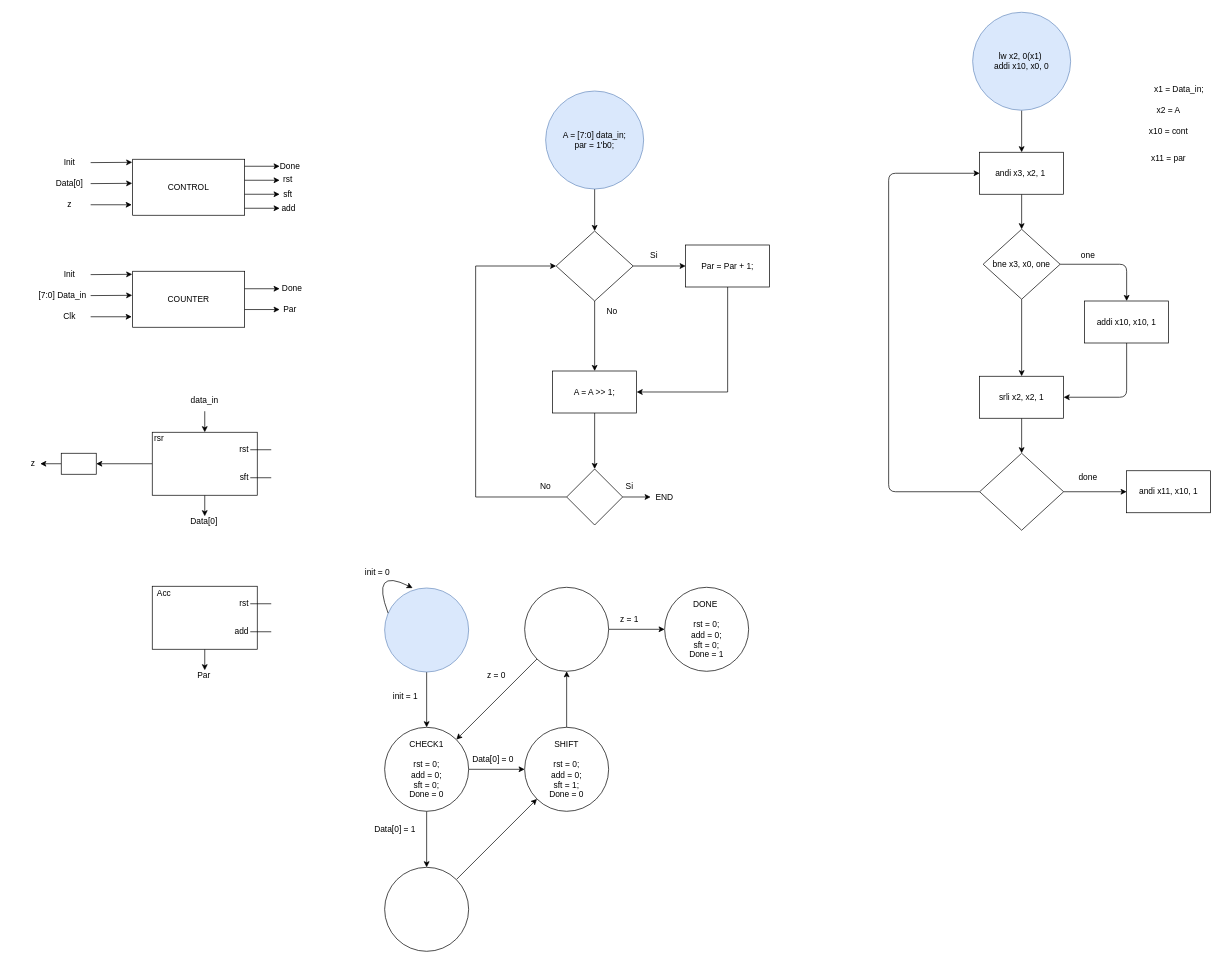
Image size: 1223x964. Some labels were removed from this diagram. Each missing label, with the box of its shape:
A == 0?: (566, 468, 623, 525)
ADD rst = 0; add = 1; sft = 0; Done = 0: (384, 867, 469, 951)
beq x2, x0, done: (979, 453, 1064, 530)
CHECK2 rst = 0; add = 0; sft = 0; Done = 0: (524, 587, 609, 671)
comp: (61, 453, 96, 474)
LSB(A) ==1 ?: (555, 230, 633, 301)
START rst = 1; add = 0; sft = 0; Done = 0: (384, 587, 469, 672)
